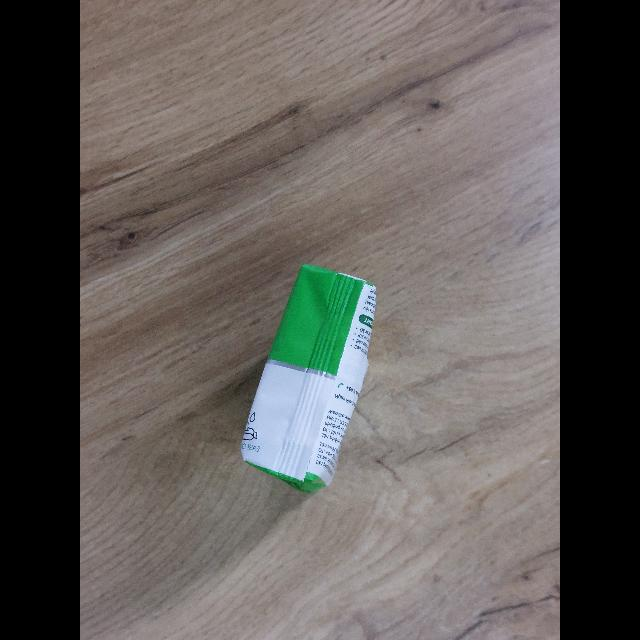khan_giay: (241, 265, 376, 492)
